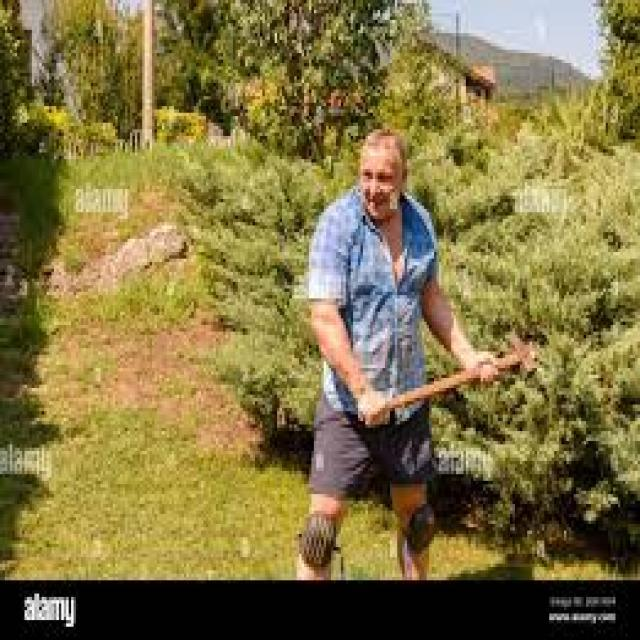hammer: (340, 332, 538, 438)
